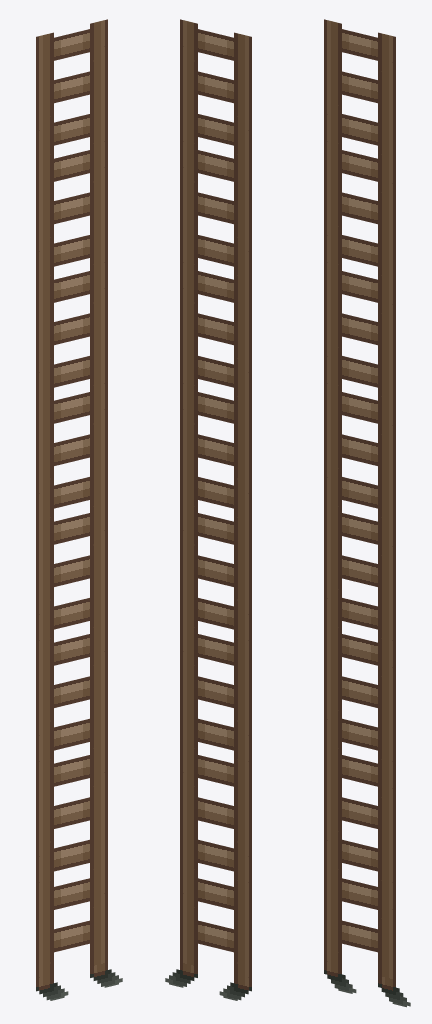
3 views of the same model, side by side, from view 1: azimuth 30°, elevation 25°; view 2: azimuth 150°, elevation 25°; view 3: azimuth 330°, elevation 25° (orthographic).
Bounding box in the file's own units: 2 × 16 × 0.
1 material, 1 textured.
